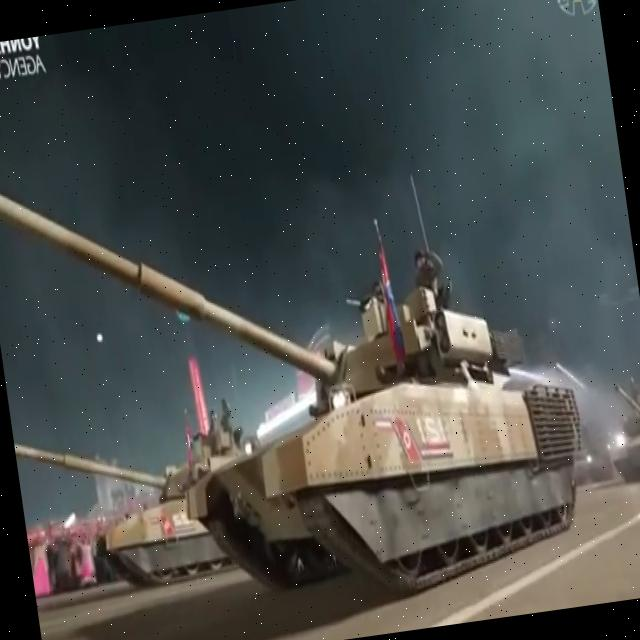north tank: (0, 86, 640, 640), (7, 360, 302, 640), (582, 369, 640, 495)
